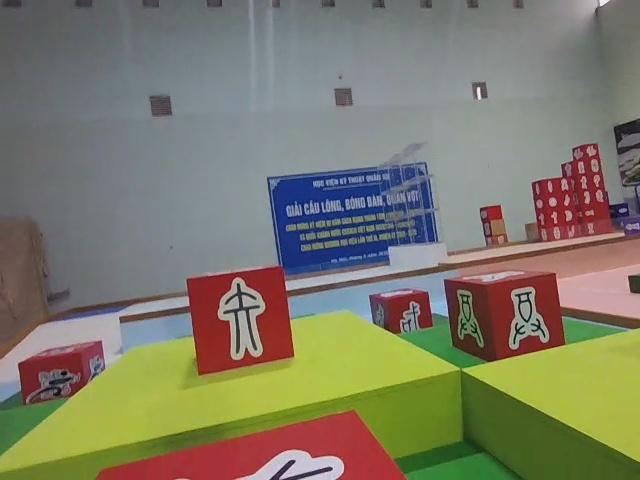R1: (15, 337, 108, 407)
R2 Fake: (184, 262, 297, 377)
R2 Real: (443, 265, 567, 363), (367, 285, 434, 337)
